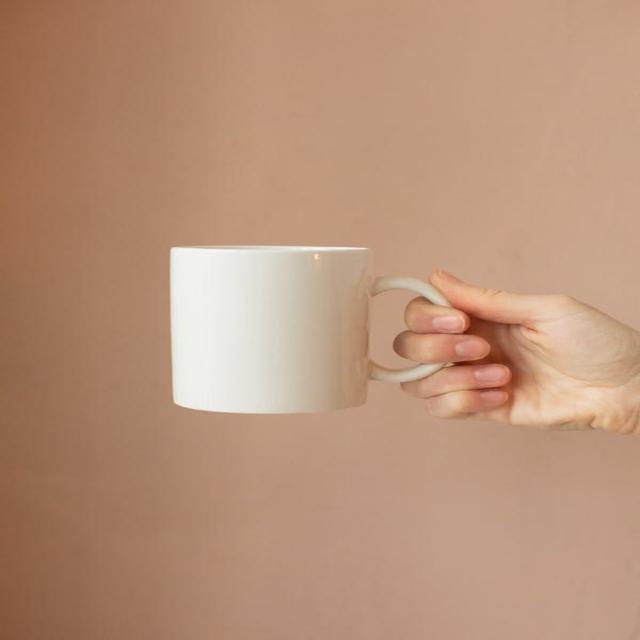glass cup: (169, 244, 456, 414)
